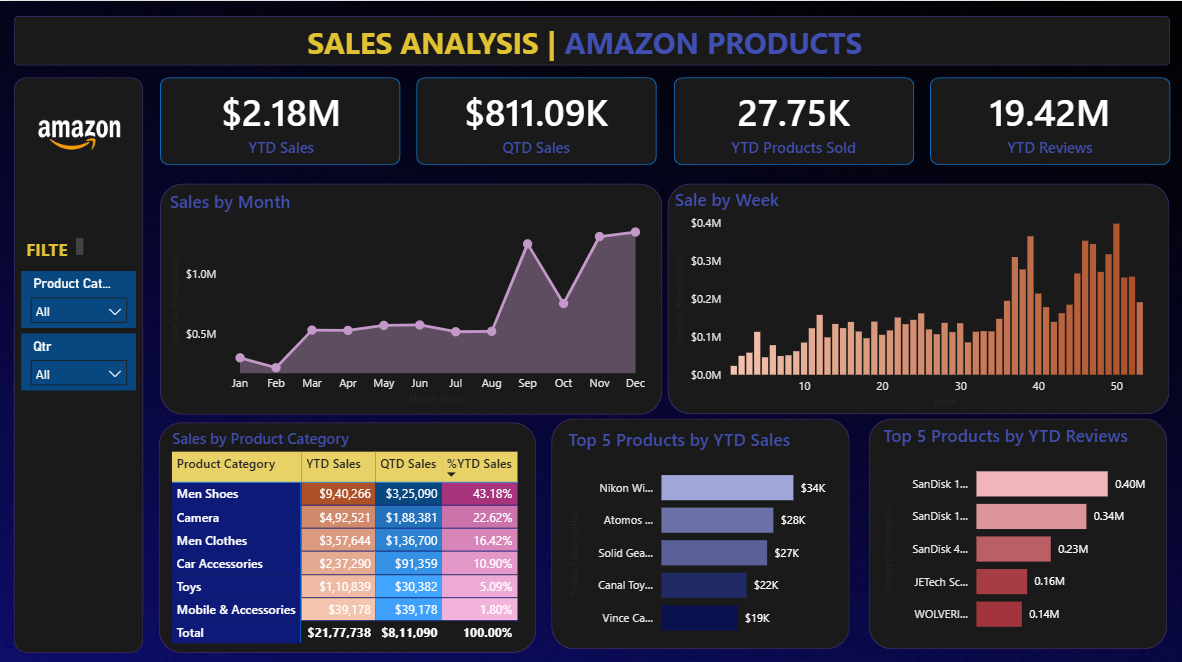

The page's visual inventory and layout, read from the dashboard file:
{"tool":"powerbi","page":{"name":"Page 1","canvas":[1280,720],"ordinal":0},"visuals":[{"type":"shape","box":[15,16.2,1250,53.8],"z":0},{"type":"textbox","box":[327.5,17.5,625,53.8],"z":1000},{"type":"shape","box":[15,82.5,140,622.5],"z":2000},{"type":"shape","box":[172.5,82.5,260,95],"z":3000,"group":"g1"},{"type":"group","id":"g1","title":"Group 1","box":[172.5,82.5,1092.5,95],"z":3000},{"type":"card","fields":{"Values":["Amazon_Data.YTD Sales"]},"box":[178.7,82.5,248.8,95],"z":4000,"group":"g1"},{"type":"shape","box":[172.5,197.5,543,250],"z":4000},{"type":"shape","box":[1005,82.5,260,95],"z":5000,"group":"g1"},{"type":"areaChart","title":"Sales by Month","fields":{"Category":["Date Table.Month Name"],"Y":["Sum(Amazon_Data.Price(Dollar))"]},"box":[178.7,204,529.3,237.3],"z":5000},{"type":"shape","box":[727.5,82.5,260,95],"z":6000,"group":"g1"},{"type":"shape","box":[721.3,197.3,542.7,249.3],"z":6000},{"type":"shape","box":[450,82.5,260,95],"z":7000,"group":"g1"},{"type":"columnChart","title":"Sale by Week","fields":{"Category":["Date Table.Week"],"Y":["Sum(Amazon_Data.Price(Dollar))"]},"box":[724,201.3,537.3,242.7],"z":7000},{"type":"card","fields":{"Values":["Amazon_Data.QTD Sales"]},"box":[455,82.5,248.8,95],"z":8000,"group":"g1"},{"type":"shape","box":[172,456,408,249.3],"z":8000},{"type":"card","fields":{"Values":["Amazon_Data.YTD Products Sold"]},"box":[733.7,82.5,248.8,95],"z":9000,"group":"g1"},{"type":"pivotTable","title":"Sales by Product Category","fields":{"Rows":["Amazon_Data.Product Category"],"Values":["Amazon_Data.YTD Sales1","Amazon_Data.QTD Sales","Amazon_Data.YTD Sales"]},"box":[181.3,461.3,388,240],"z":9000},{"type":"card","fields":{"Values":["Amazon_Data.YTD Reviews"]},"box":[1010,82.5,248.8,95],"z":10000,"group":"g1"},{"type":"shape","box":[938.7,452,322.7,249.3],"z":10000},{"type":"shape","box":[596,452,322.7,249.3],"z":11000},{"type":"clusteredBarChart","title":"Top 5 Products by YTD Sales","fields":{"Category":["Amazon_Data.Product Description"],"Y":["Amazon_Data.YTD Sales"]},"box":[609.3,461.3,298.7,240],"z":12000},{"type":"clusteredBarChart","title":"Top 5 Products by YTD Reviews","fields":{"Category":["Amazon_Data.Product Description"],"Y":["Amazon_Data.YTD Reviews"]},"box":[950.7,457.3,298.7,240],"z":13000},{"type":"slicer","fields":{"Values":["Amazon_Data.Product Category"]},"box":[22.7,292,124,61.3],"z":14000},{"type":"slicer","fields":{"Values":["Date Table.Qtr"]},"box":[22.7,360,124,61.3],"z":15000},{"type":"image","box":[25.3,81.3,120,120],"z":16000},{"type":"textbox","box":[22.7,252,72,40],"z":16001}]}

Visuals, with their boxes in screenshot pixels (x1, y1, x2, y2), scaled from the page's 1280x720 canvas onto the 1182x662 screenshot:
shape: 14 15 1168 64
textbox: 302 16 880 66
shape: 14 76 143 648
shape: 159 76 399 163
"Group 1" group: 159 76 1168 163
card - Amazon_Data.YTD Sales: 165 76 395 163
shape: 159 182 661 411
shape: 928 76 1168 163
"Sales by Month" areaChart: 165 188 654 406
shape: 672 76 912 163
shape: 666 181 1167 411
shape: 416 76 656 163
"Sale by Week" columnChart: 669 185 1165 408
card - Amazon_Data.QTD Sales: 420 76 650 163
shape: 159 419 536 648
card - Amazon_Data.YTD Products Sold: 678 76 907 163
"Sales by Product Category" pivotTable: 167 424 526 645
card - Amazon_Data.YTD Reviews: 933 76 1162 163
shape: 867 416 1165 645
shape: 550 416 848 645
"Top 5 Products by YTD Sales" clusteredBarChart: 563 424 838 645
"Top 5 Products by YTD Reviews" clusteredBarChart: 878 420 1154 641
slicer - Amazon_Data.Product Category: 21 268 135 325
slicer - Date Table.Qtr: 21 331 135 387
image: 23 75 134 185
textbox: 21 232 87 268
